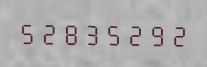eight: (59, 19, 79, 46)
five: (101, 19, 121, 47), (17, 18, 37, 45)
nine: (143, 20, 163, 48)
three: (80, 19, 100, 46)
two: (38, 18, 58, 46), (122, 20, 142, 47), (164, 21, 184, 48)
